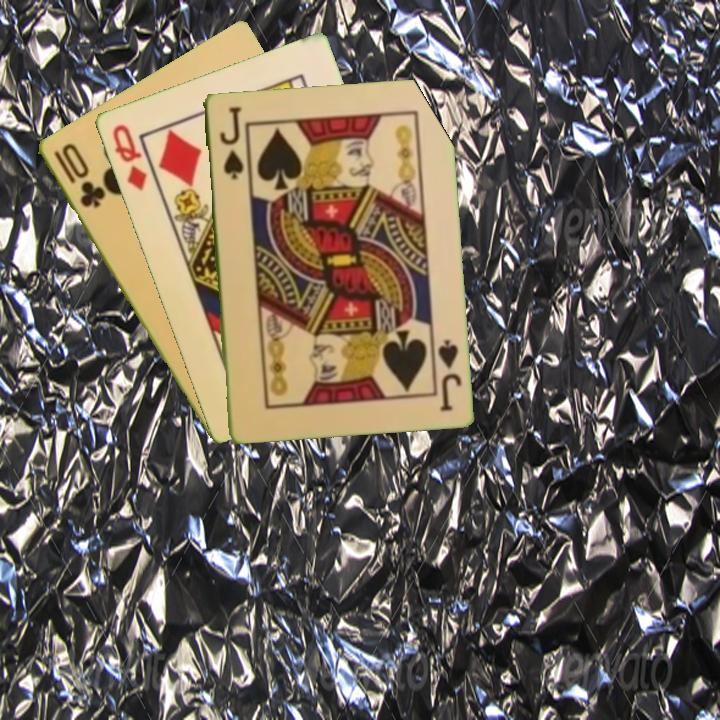10c: (49, 139, 107, 211)
Js: (216, 103, 246, 182), (434, 335, 464, 413)
Qd: (108, 120, 150, 194)
